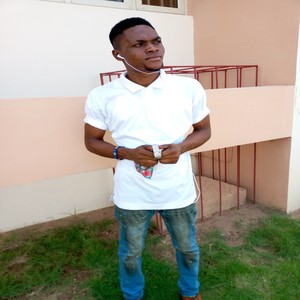Fulokoja_male_student: (94, 15, 208, 300)
